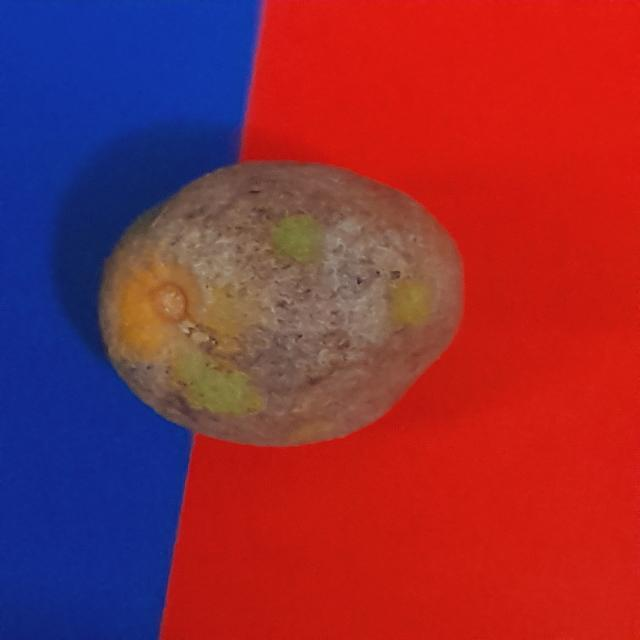thrips: (94, 154, 471, 460)
